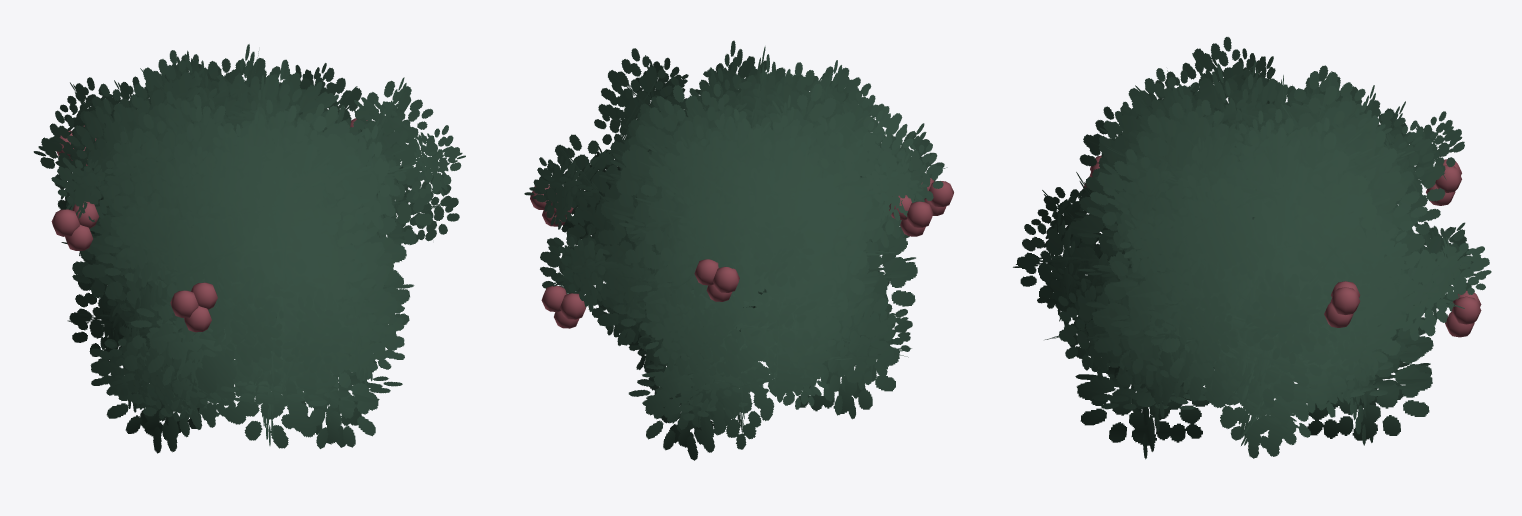
File: berry-bush-open-canes.glb
3 views of the same model, side by side, from view 1: azimuth 30°, elevation 25°; view 2: azimuth 150°, elevation 25°; view 3: azimuth 270°, elevation 25° (orthographic). The views are drawn at different scales.
Visible parts, largest first — view 1: berry-bush-open-canes runtime mesh; view 2: berry-bush-open-canes runtime mesh; view 3: berry-bush-open-canes runtime mesh.
Boxes of the visible parts, x1,y1,x2,y2 form: berry-bush-open-canes runtime mesh: (33,44,465,453); berry-bush-open-canes runtime mesh: (524,40,953,460); berry-bush-open-canes runtime mesh: (1013,37,1491,459).
Size of the model in its own units: 1.04 by 1.05 by 1.15.
Materials: 2 (1 with a texture image).
